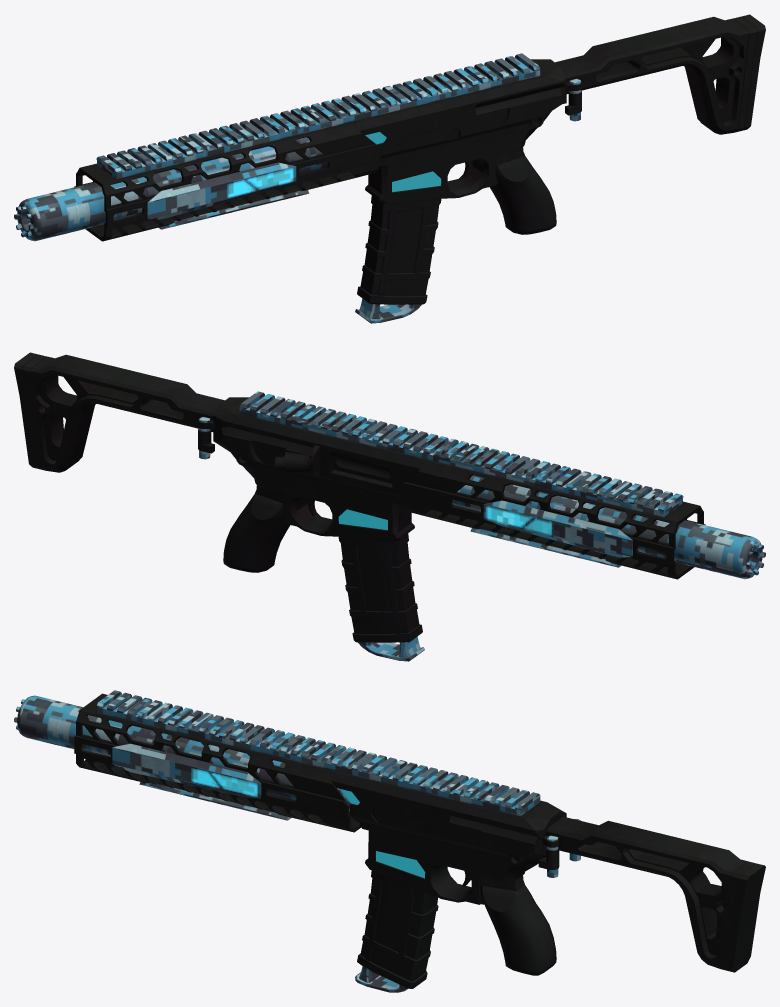
3 views of the same model, one above another, from view 1: azimuth 30°, elevation 25°; view 2: azimuth 150°, elevation 25°; view 3: azimuth 330°, elevation 25° (orthographic).
Visible parts, largest first — view 1: Ar1, Ar1_Magazine; view 2: Ar1, Ar1_Magazine; view 3: Ar1, Ar1_Magazine.
Part boxes in pixels (x1=…): Ar1: x1=14, y1=14, x2=765, y2=241; Ar1_Magazine: x1=355, y1=195, x2=441, y2=323; Ar1: x1=14, y1=352, x2=765, y2=579; Ar1_Magazine: x1=338, y1=533, x2=424, y2=661; Ar1: x1=14, y1=690, x2=765, y2=975; Ar1_Magazine: x1=355, y1=870, x2=438, y2=992.
Size of the model in its own units: 824 by 236 by 82.14.
